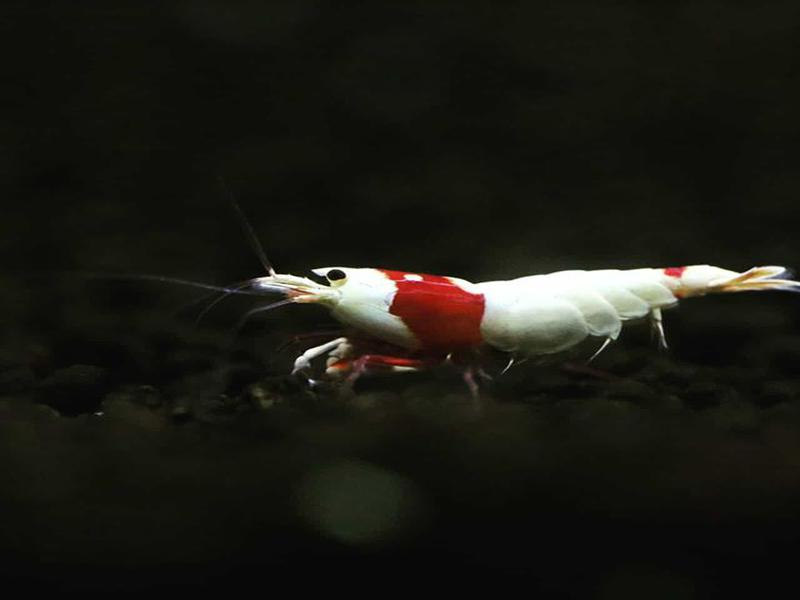shrimp: (246, 255, 795, 380)
